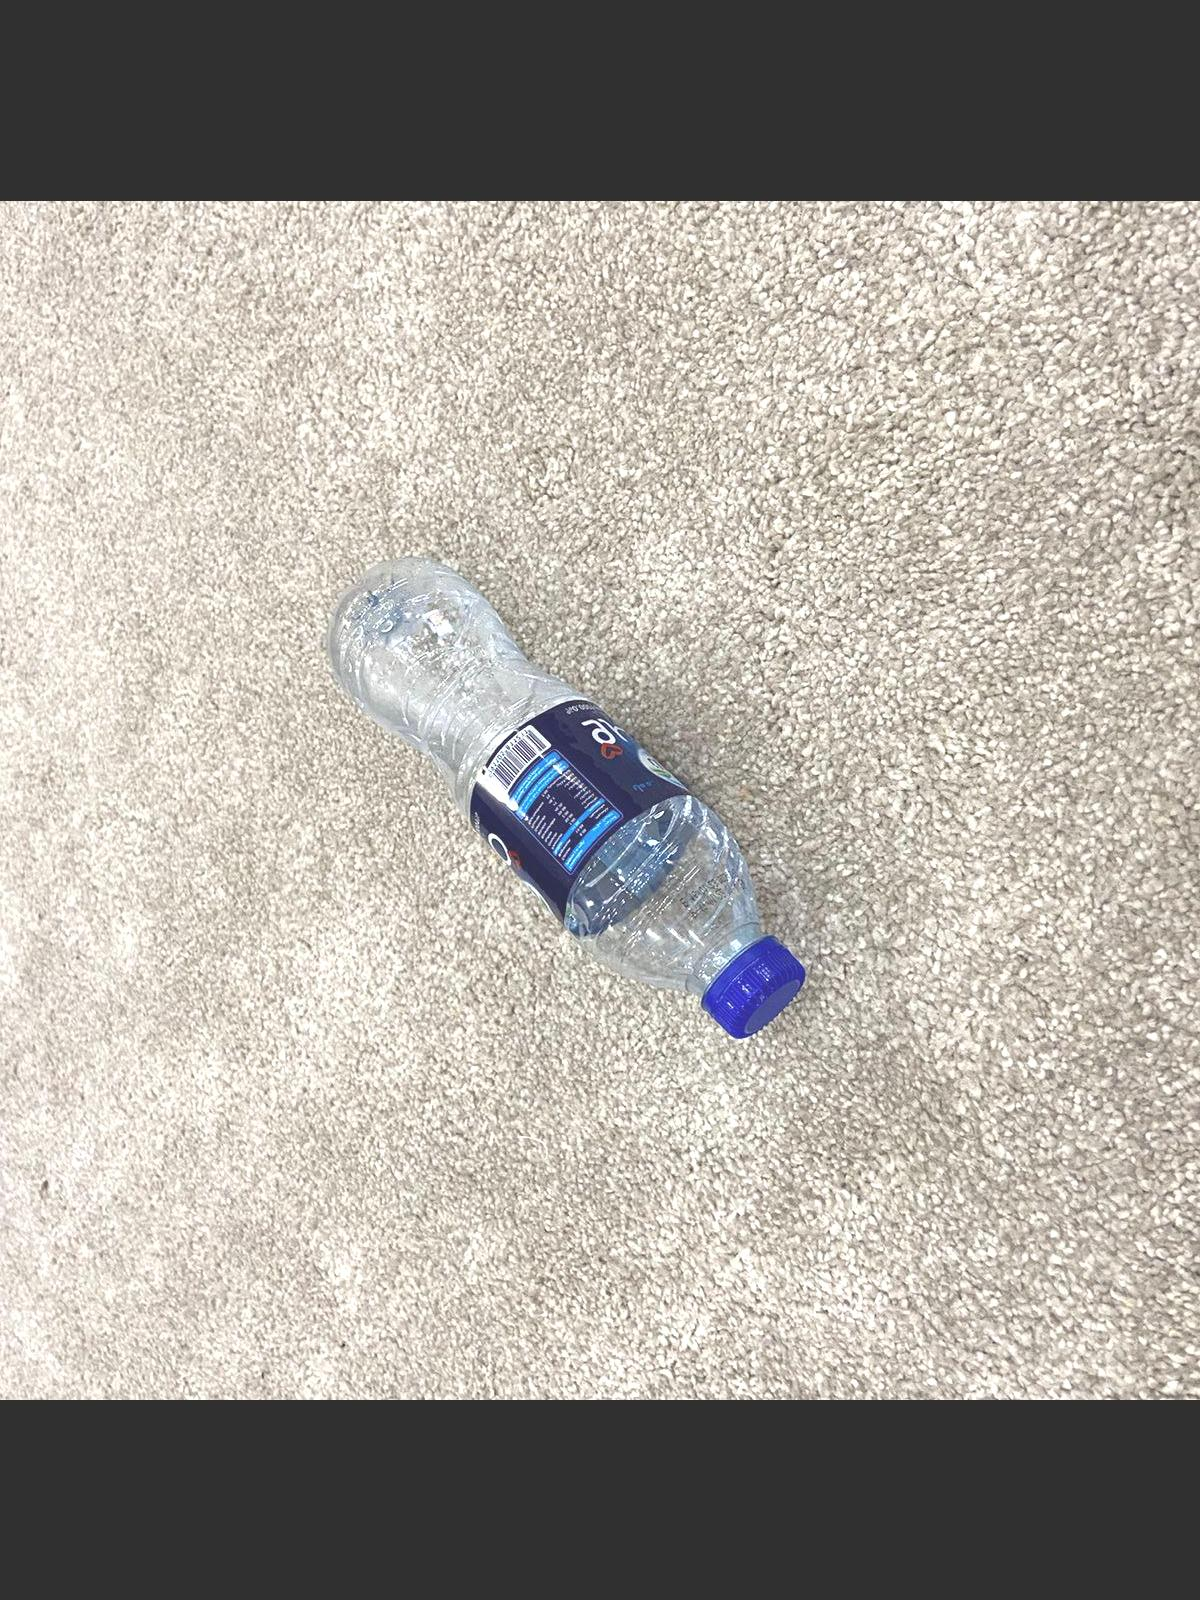bottle: (320, 558, 812, 1049)
